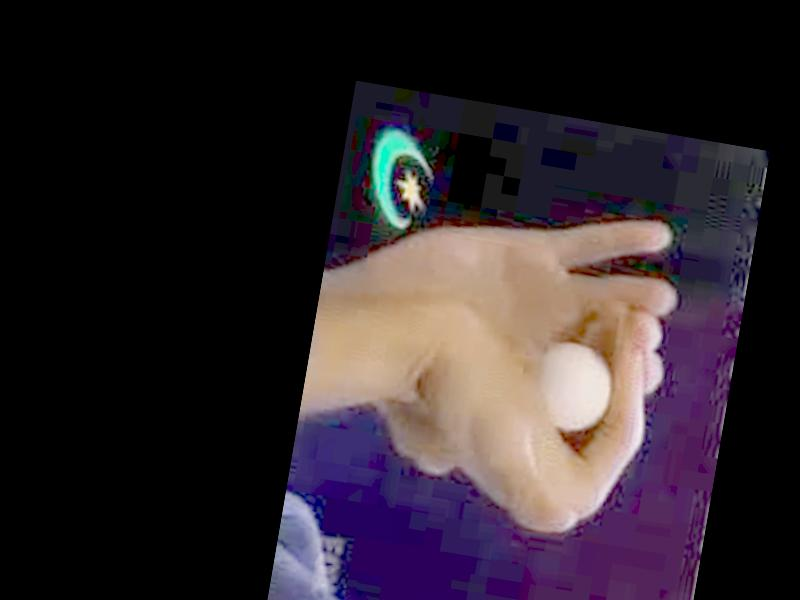Eggs: (536, 338, 620, 439)
